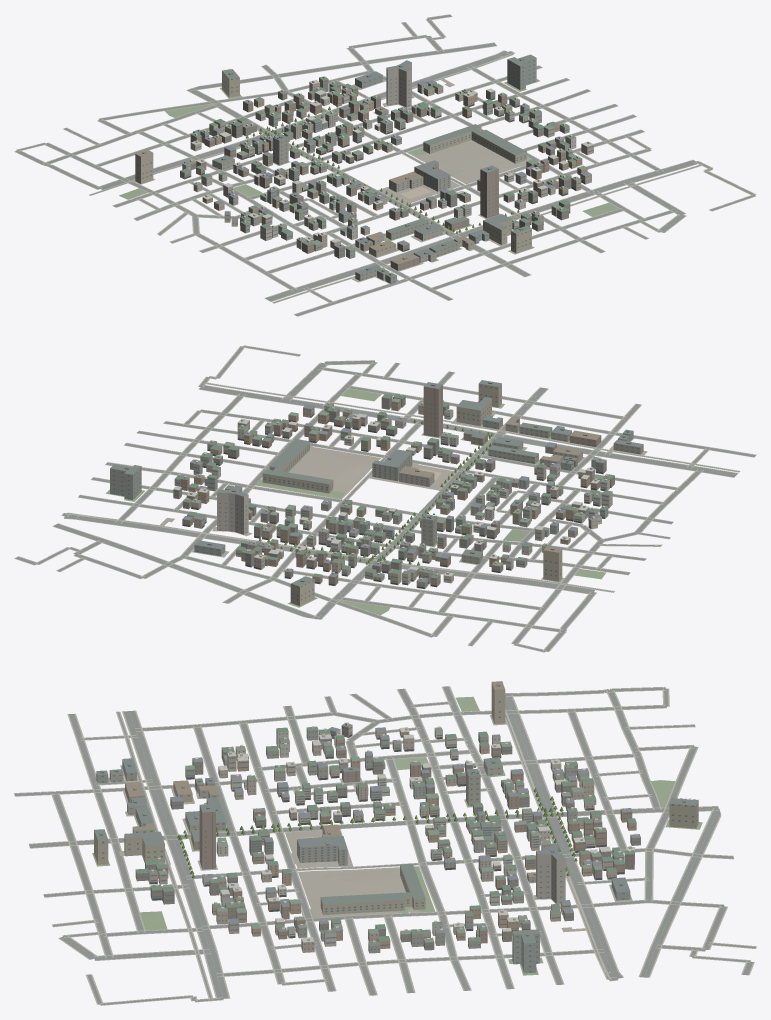
The picture shows the model from 3 angles, top to bottom: view 1: azimuth 30°, elevation 25°; view 2: azimuth 150°, elevation 25°; view 3: azimuth 270°, elevation 25°; orthographic projection. The views are drawn at different scales.
Parts seen in each view (by area): view 1: context-villa-infill, context-osm-roads, context-osm-sidewalks, context-osm-buildings, context-building-plinths; view 2: context-villa-infill, context-osm-roads, context-osm-sidewalks, context-osm-buildings, context-building-plinths; view 3: context-osm-roads, context-villa-infill, context-osm-sidewalks, context-osm-buildings, context-building-plinths.
Part boxes in pixels (x1=…): context-villa-infill: x1=180, y1=76, x2=593, y2=258; context-osm-roads: x1=15, y1=14, x2=755, y2=316; context-osm-sidewalks: x1=14, y1=14, x2=756, y2=316; context-osm-buildings: x1=135, y1=54, x2=536, y2=283; context-building-plinths: x1=119, y1=79, x2=618, y2=283; context-villa-infill: x1=173, y1=393, x2=614, y2=588; context-osm-roads: x1=15, y1=346, x2=755, y2=651; context-osm-sidewalks: x1=14, y1=345, x2=756, y2=652; context-osm-buildings: x1=110, y1=380, x2=643, y2=606; context-building-plinths: x1=106, y1=389, x2=647, y2=615; context-osm-roads: x1=14, y1=686, x2=756, y2=1005; context-villa-infill: x1=135, y1=722, x2=640, y2=953; context-osm-sidewalks: x1=14, y1=686, x2=756, y2=1005; context-osm-buildings: x1=94, y1=681, x2=698, y2=973; context-building-plinths: x1=92, y1=696, x2=702, y2=975.
Size of the model in its own units: 771 by 71.15 by 769.
